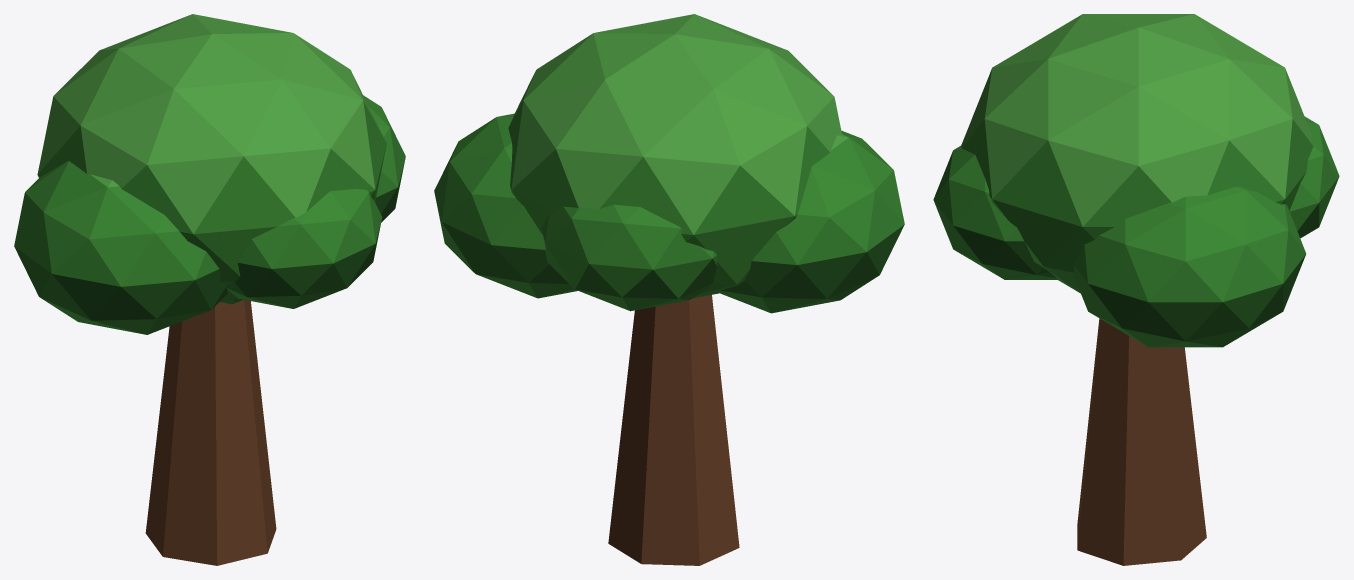
File: Garden_Tree.glb
The picture shows the model from 3 angles, left to right: view 1: azimuth 30°, elevation 25°; view 2: azimuth 150°, elevation 25°; view 3: azimuth 270°, elevation 25°; orthographic projection.
Parts seen in each view (by area): view 1: GardenTree; view 2: GardenTree; view 3: GardenTree.
Part boxes in pixels (<box>): GardenTree: <box>14,14,405,565</box>; GardenTree: <box>434,14,904,565</box>; GardenTree: <box>933,14,1339,565</box>.
Size of the model in its own units: 2.94 by 3.59 by 2.59.
